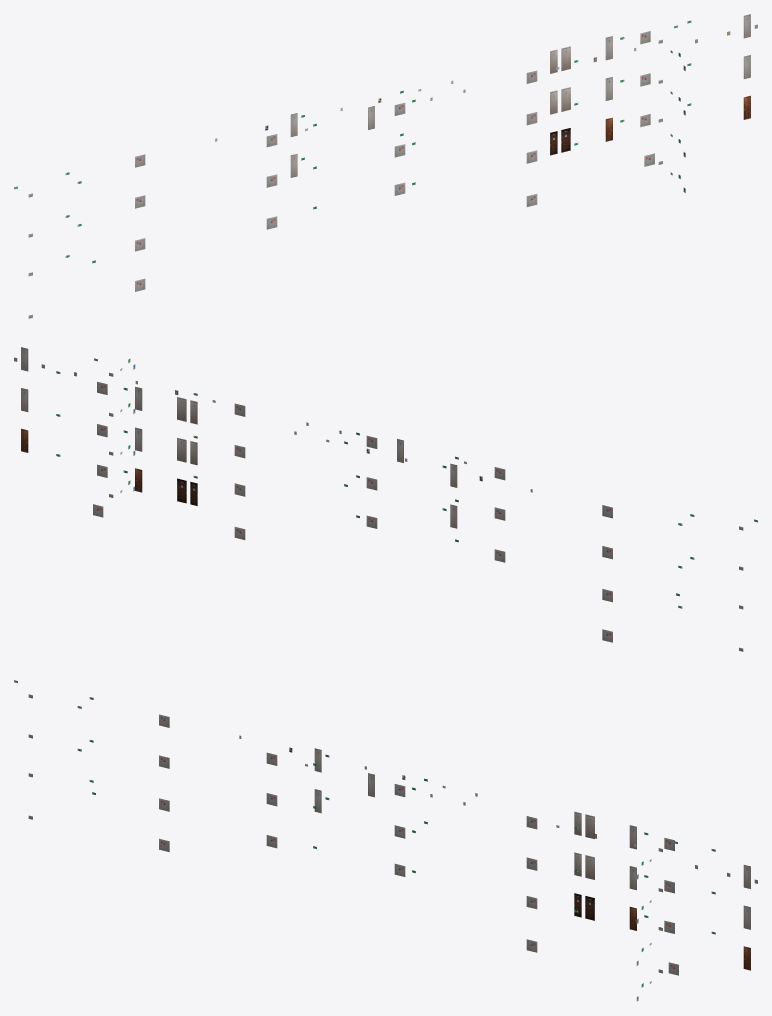
Rendered from DECAL.glb.
The picture shows the model from 3 angles, top to bottom: view 1: azimuth 30°, elevation 25°; view 2: azimuth 150°, elevation 25°; view 3: azimuth 330°, elevation 25°; orthographic projection.
Parts seen in each view (by area): view 1: 4et.014; view 2: 4et.014; view 3: 4et.014.
Part boxes in pixels (x1,y1,x2,y2): 4et.014: (14, 14, 757, 318); 4et.014: (14, 347, 757, 651); 4et.014: (14, 680, 757, 1001).
Size of the model in its own units: 70.66 by 13.26 by 6.03.
5 materials, 5 textured.
